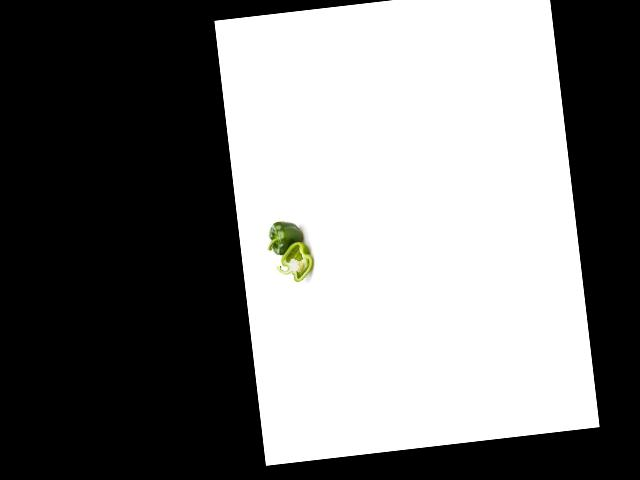bell_pepper: (272, 239, 314, 286)
